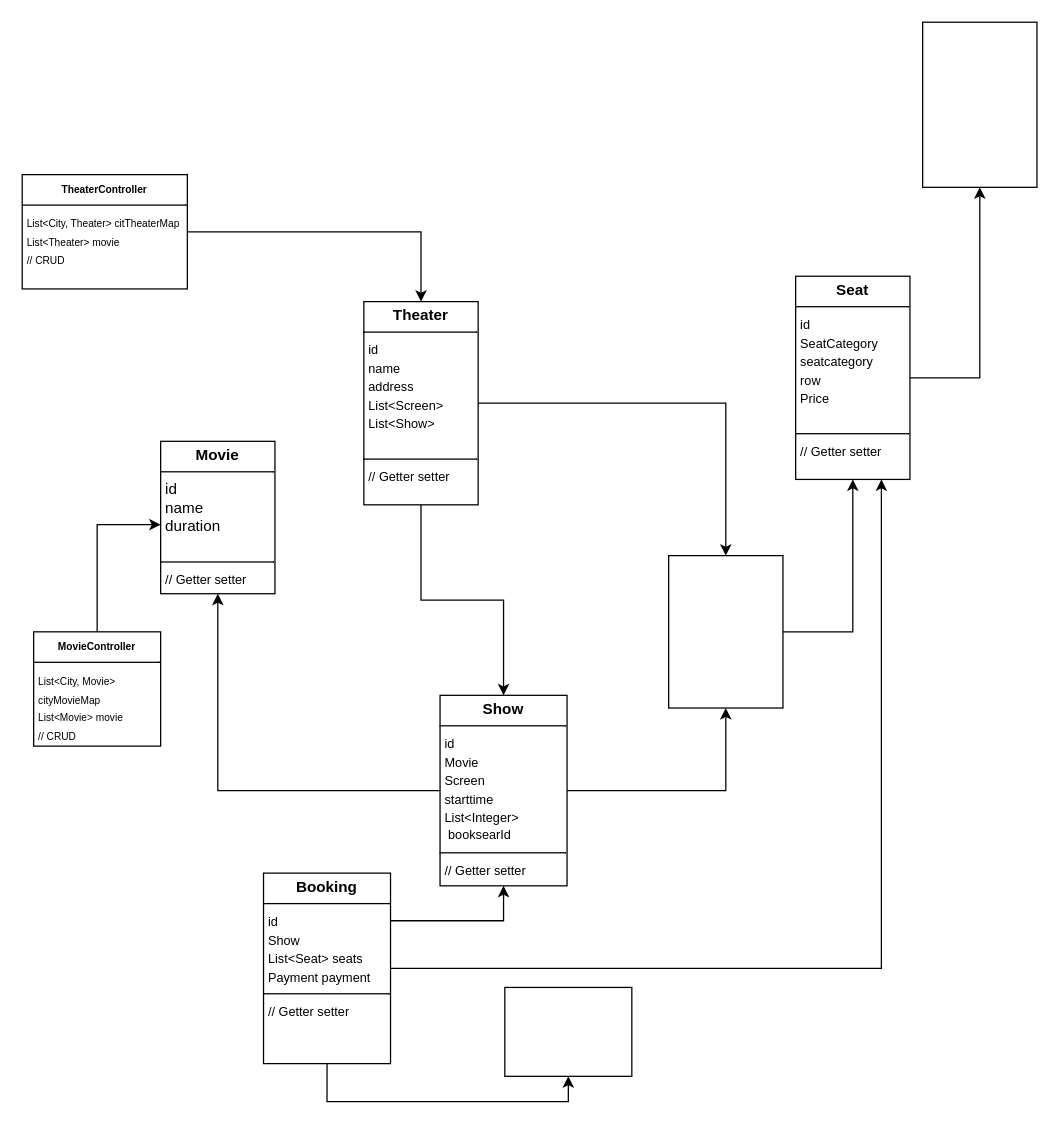
Image size: 1059x1134. Some labels were removed from this diagram. The box of each missing label's shape, as (x1, y1, x2, y2) in pixels:
Payment // Getter setter: (504, 986, 632, 1076)
Screen id List<Seat> // Getter setter: (667, 554, 783, 708)
SeatCategory ENUM { PLATINUM GOLD, SILVER }: (921, 21, 1037, 187)
